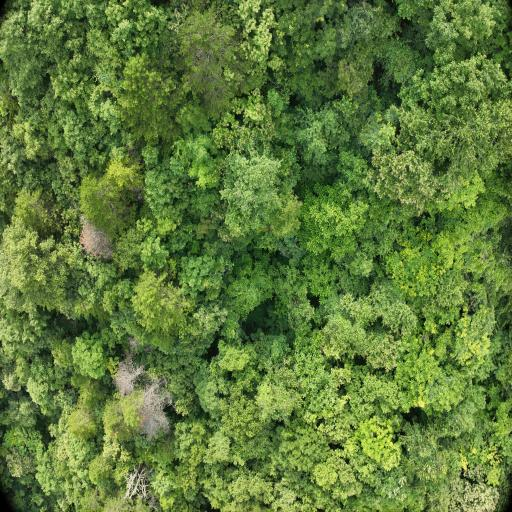dead-tree: (80, 222, 108, 258), (146, 394, 163, 436), (118, 366, 138, 394), (126, 475, 142, 501)
